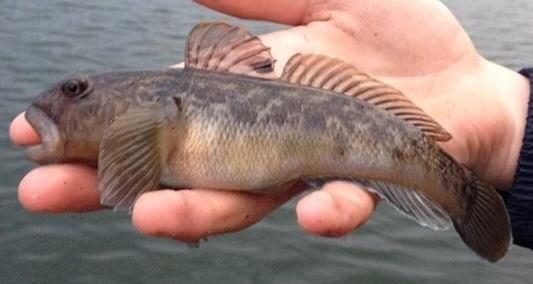Goby: (25, 21, 511, 265)
